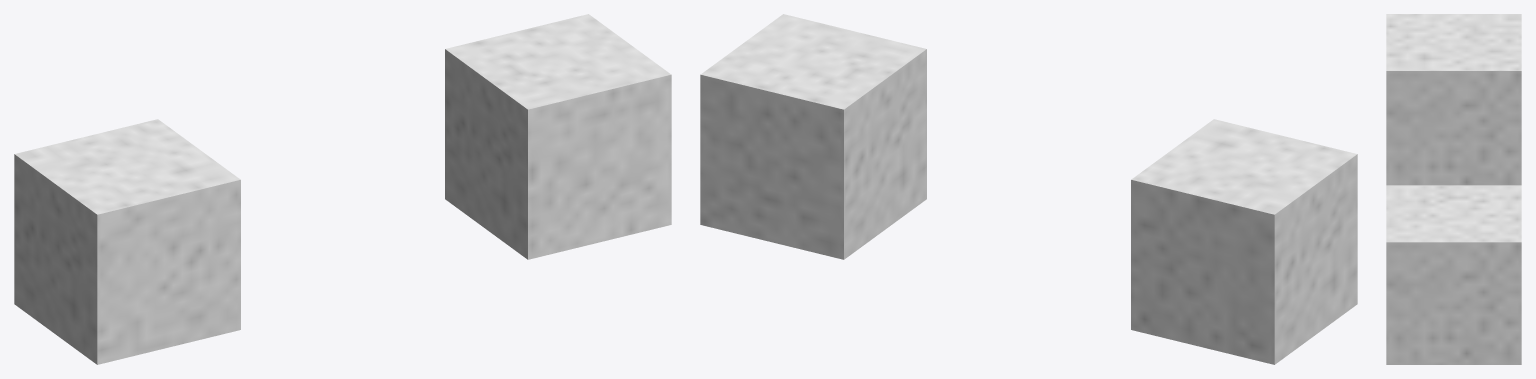
Rendered from tris.obj.
3 renders of one model, left to right at view 1: azimuth 30°, elevation 25°; view 2: azimuth 150°, elevation 25°; view 3: azimuth 270°, elevation 25°, orthographic. The views are drawn at different scales.
Visible parts, largest first — view 1: slot1; view 2: slot1; view 3: slot1.
Boxes of the visible parts, x1,y1,x2,y2 form: slot1: (14,14,671,364); slot1: (700,14,1357,364); slot1: (1386,14,1521,364).
Size of the model in its own units: 4 by 1 by 1.
